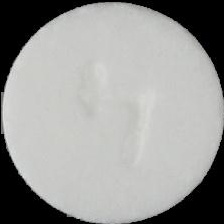0071-0418: (0, 0, 224, 224)
